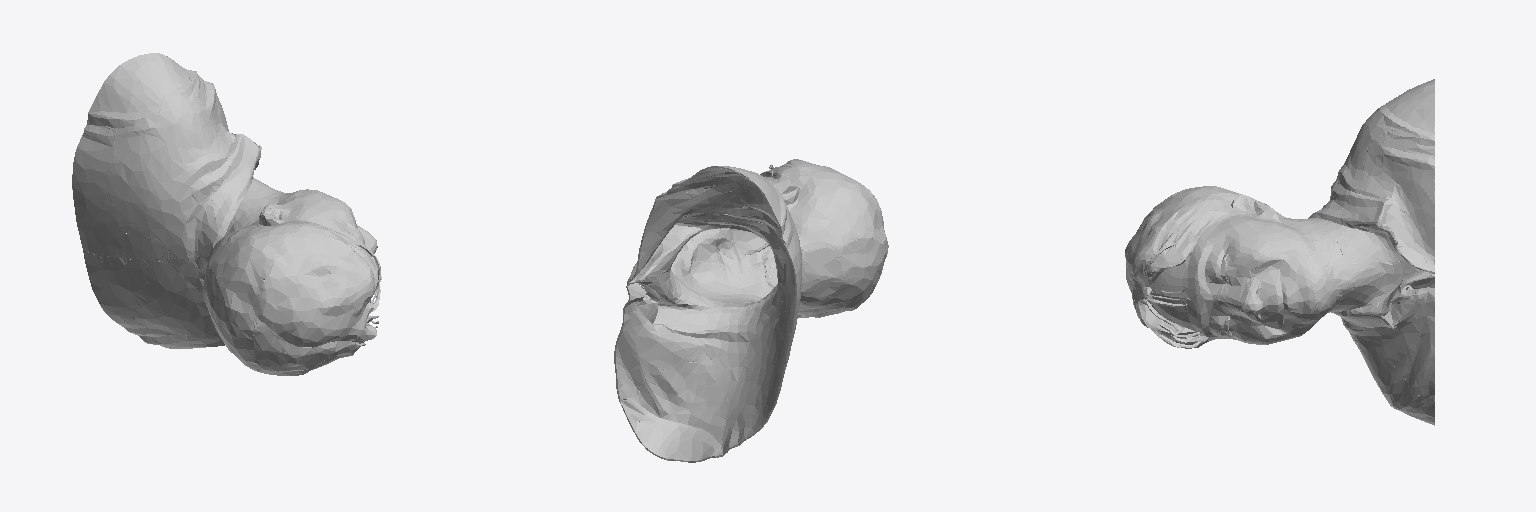
Rendered from SHC.obj.
The picture shows the model from 3 angles: view 1: azimuth 30°, elevation 25°; view 2: azimuth 150°, elevation 25°; view 3: azimuth 270°, elevation 25°; orthographic projection.
Parts seen in each view (by area): view 1: tmpo5xl5_cg.obj; view 2: tmpo5xl5_cg.obj; view 3: tmpo5xl5_cg.obj.
Boxes of the visible parts, box(x1,y1,x2,y2) form: tmpo5xl5_cg.obj: box(72, 53, 381, 375); tmpo5xl5_cg.obj: box(614, 159, 888, 462); tmpo5xl5_cg.obj: box(1125, 79, 1434, 425).
Bounding box in the file's own units: 1.08 × 1.49 × 1.36.